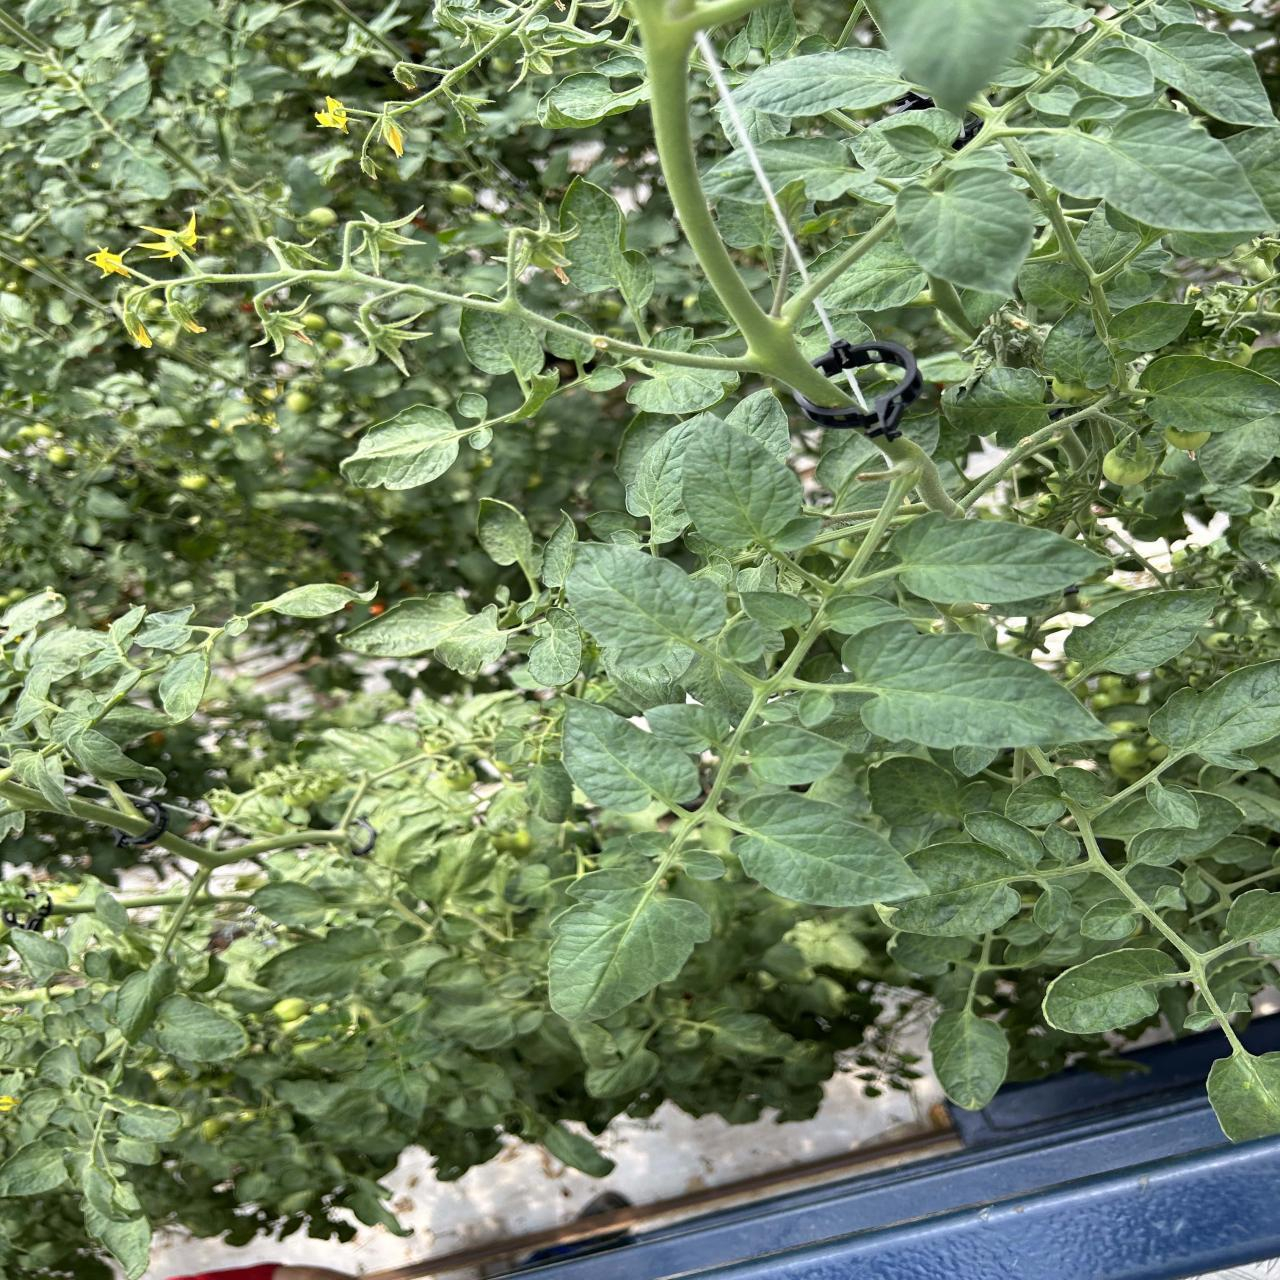Flor: (137, 213, 198, 259), (87, 248, 137, 278), (166, 300, 205, 333), (314, 96, 349, 131), (123, 308, 152, 348), (381, 118, 403, 158)
Hoja: (843, 622, 1108, 749), (1021, 108, 1274, 233), (549, 863, 710, 1020), (731, 791, 924, 905), (888, 513, 1109, 604), (567, 544, 727, 667), (897, 162, 1035, 295), (681, 420, 821, 549), (563, 699, 700, 812), (1126, 23, 1276, 127), (1119, 348, 1280, 435), (890, 832, 1022, 937), (1065, 590, 1220, 679), (1149, 661, 1280, 764), (733, 48, 911, 117), (341, 406, 481, 490), (1042, 948, 1179, 1033), (340, 594, 495, 656), (930, 1010, 1009, 1110), (940, 367, 1049, 438), (1207, 1050, 1280, 1143), (742, 724, 845, 787), (870, 756, 964, 824), (459, 308, 543, 375), (1041, 318, 1098, 408), (67, 729, 164, 782), (1068, 43, 1155, 101), (964, 811, 1044, 867), (252, 583, 377, 618), (645, 703, 731, 754), (1111, 301, 1198, 343), (158, 651, 209, 722), (1126, 828, 1218, 866), (1005, 776, 1067, 829), (716, 614, 782, 663), (741, 591, 812, 631), (1081, 897, 1143, 940), (1146, 783, 1199, 829), (1042, 822, 1088, 865), (1033, 886, 1071, 933)
Pedunculo: (621, 438, 953, 940), (628, 0, 840, 402), (1028, 758, 1259, 1083), (203, 268, 768, 377), (955, 407, 1099, 517), (778, 207, 896, 328), (931, 111, 1017, 179)
